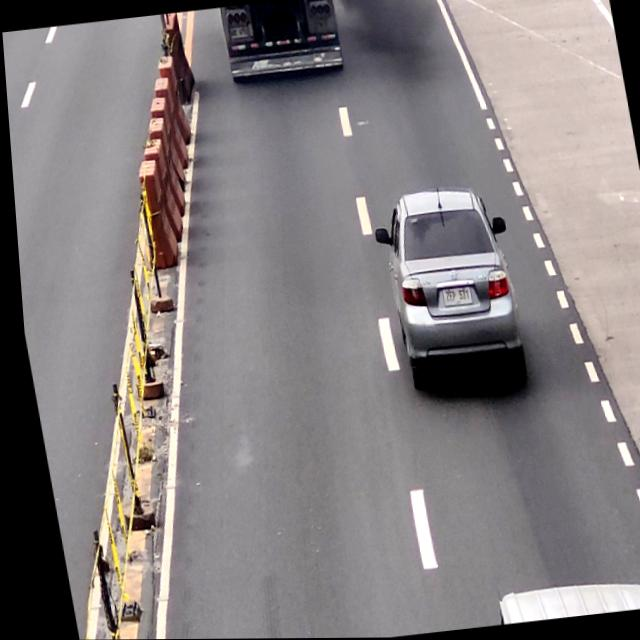Car: (365, 183, 529, 400)
License-Plate: (437, 286, 468, 306)
